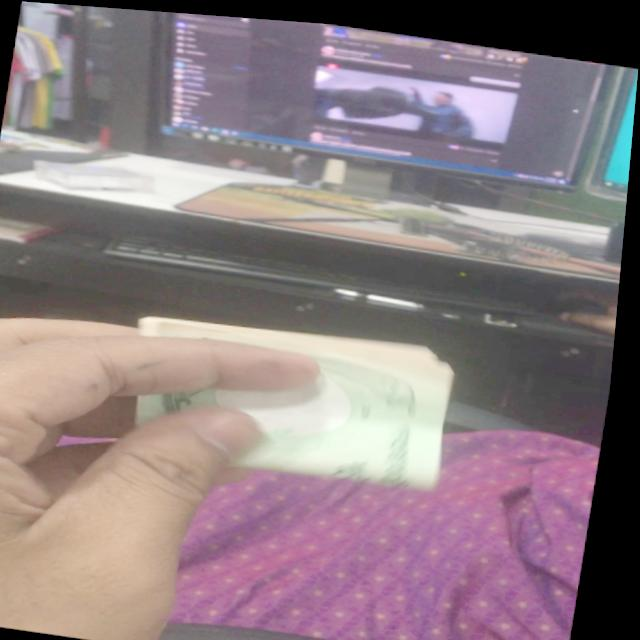Taka: (129, 301, 494, 490)
